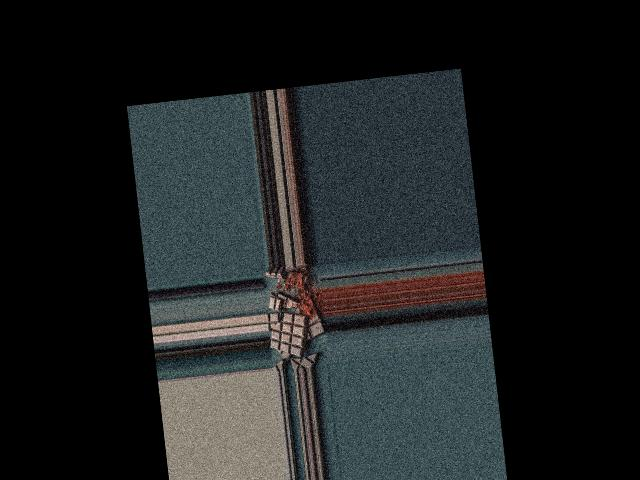chocolate: (266, 310, 311, 361)
